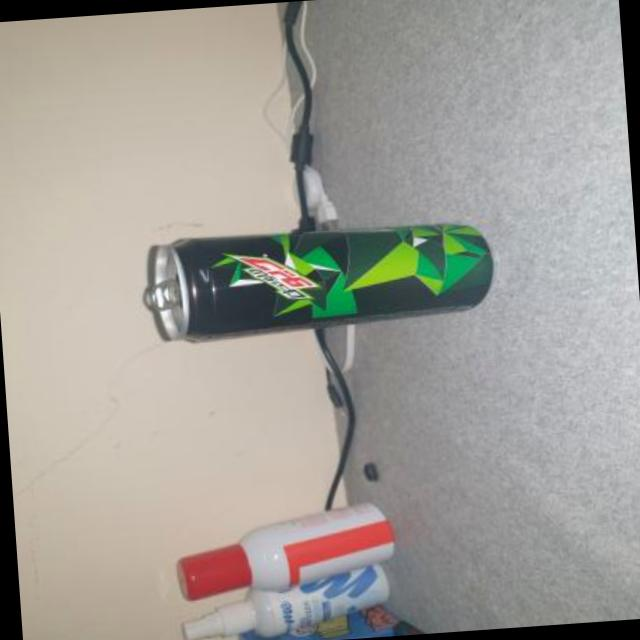metal: (141, 227, 488, 343)
